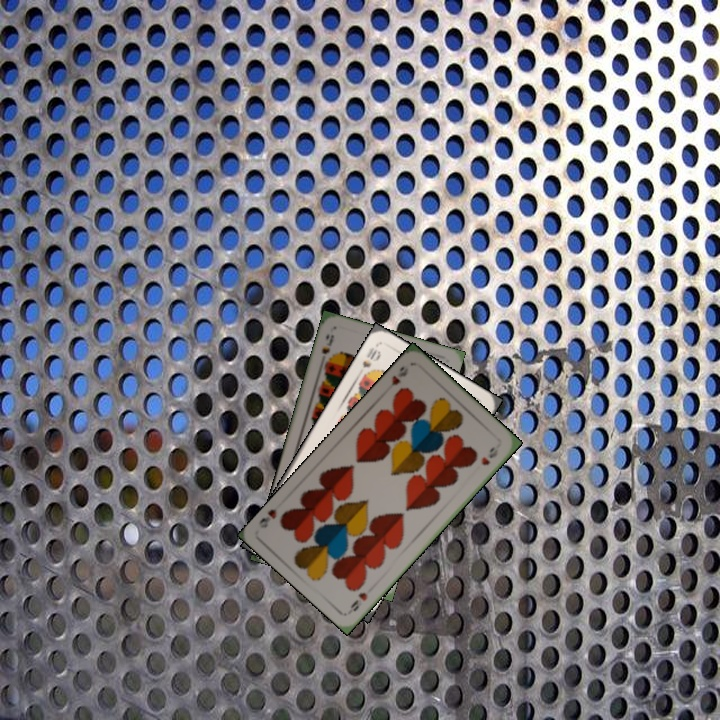H9: (381, 363, 411, 394), (345, 588, 370, 616)
S10: (358, 343, 383, 371)
S9: (318, 329, 336, 357)
